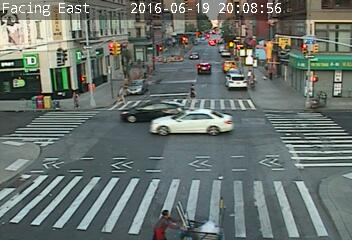neg: (153, 117, 179, 152), (212, 125, 233, 154), (302, 167, 323, 196), (74, 130, 95, 158), (163, 34, 182, 58), (206, 30, 224, 54), (45, 170, 62, 193), (311, 58, 327, 79), (264, 47, 280, 68), (291, 98, 306, 119), (251, 168, 266, 188)
pos: (153, 203, 177, 236), (184, 78, 202, 102), (111, 78, 129, 102), (68, 88, 85, 110)
